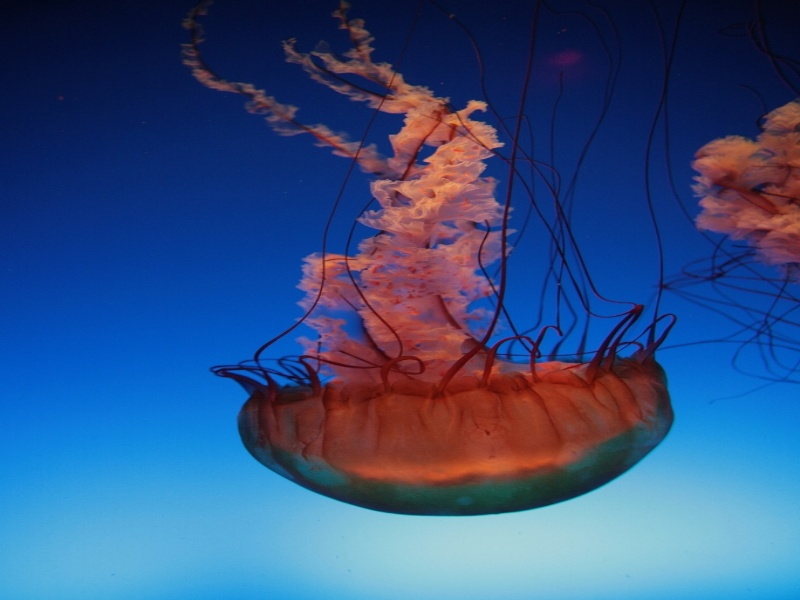Jellyfish: (179, 9, 734, 526)
